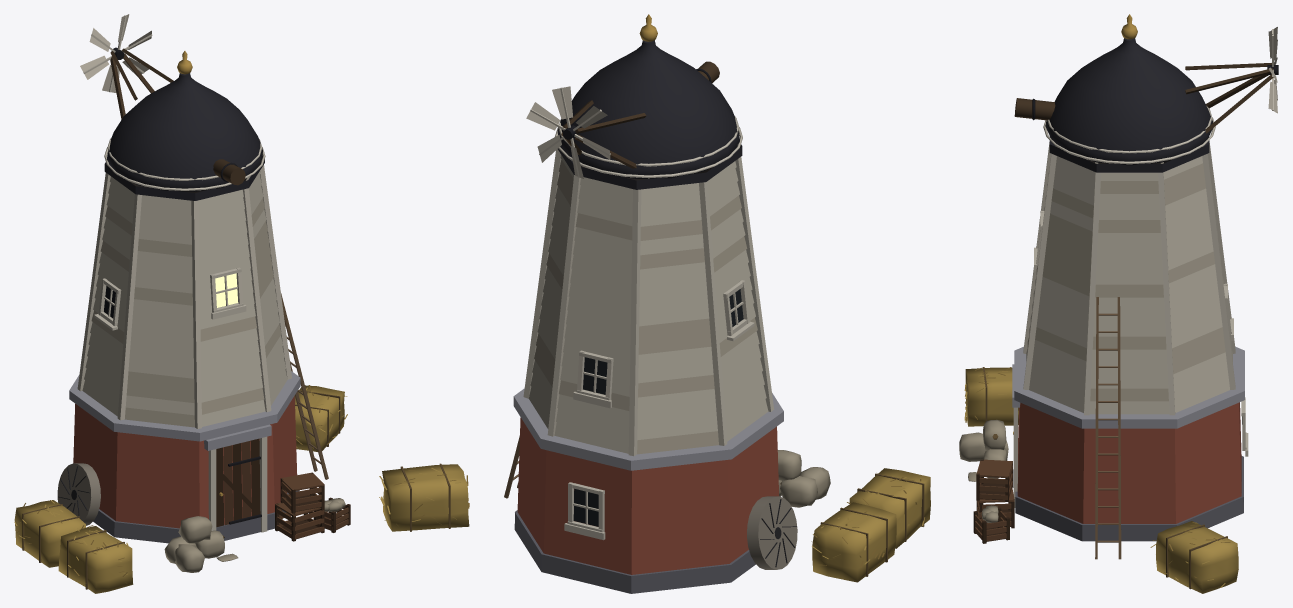
Rendered from hg-windmill.glb.
3 views of the same model, side by side, from view 1: azimuth 30°, elevation 25°; view 2: azimuth 150°, elevation 25°; view 3: azimuth 270°, elevation 25° (orthographic). The views are drawn at different scales.
Visible parts, largest first — view 1: hg-windmill; view 2: hg-windmill; view 3: hg-windmill.
Part boxes in pixels (bbox=[...]): hg-windmill: bbox=[14, 14, 350, 593]; hg-windmill: bbox=[379, 14, 930, 593]; hg-windmill: bbox=[959, 14, 1278, 593].
Bounding box in the file's own units: 8.2 × 9.43 × 5.68.
